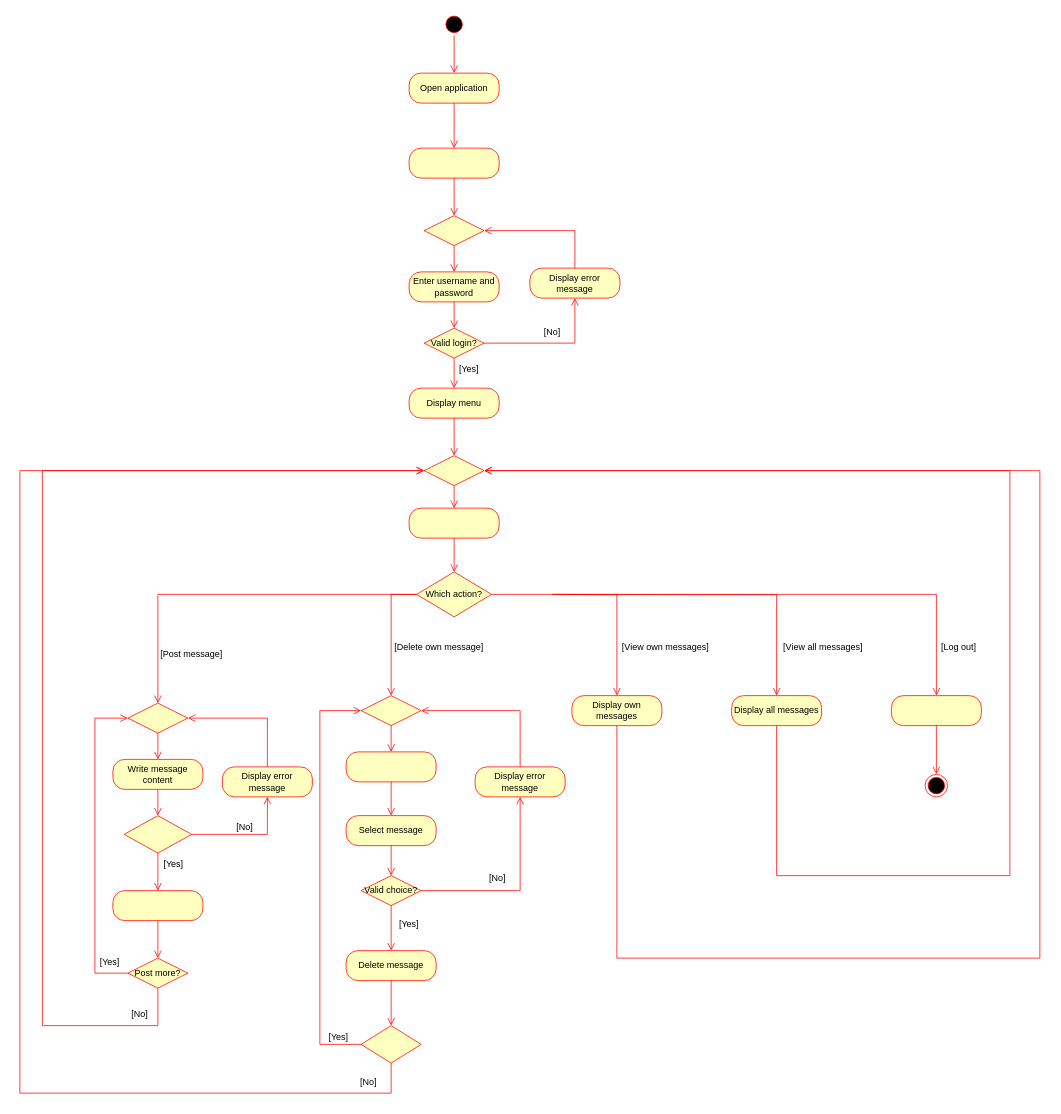
This 1061x1114 diagram has some shape labels left out. The centre of each missing label's shape, as x and y in pixels:
Choose "login": point 453,162
Delete more?: point 390,1044
Log out: point 936,710
Post message: point 157,905
Select action: point 453,522
Valid message?: point 157,834
View own messages: point 390,766
